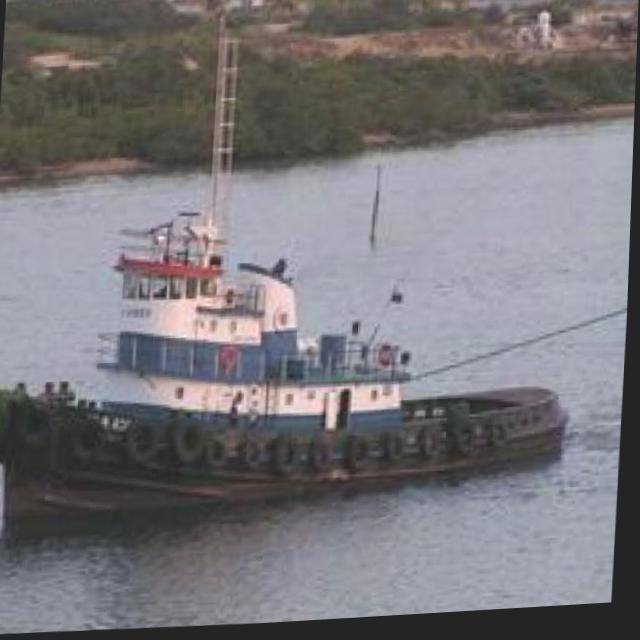ship2: (0, 24, 573, 536)
